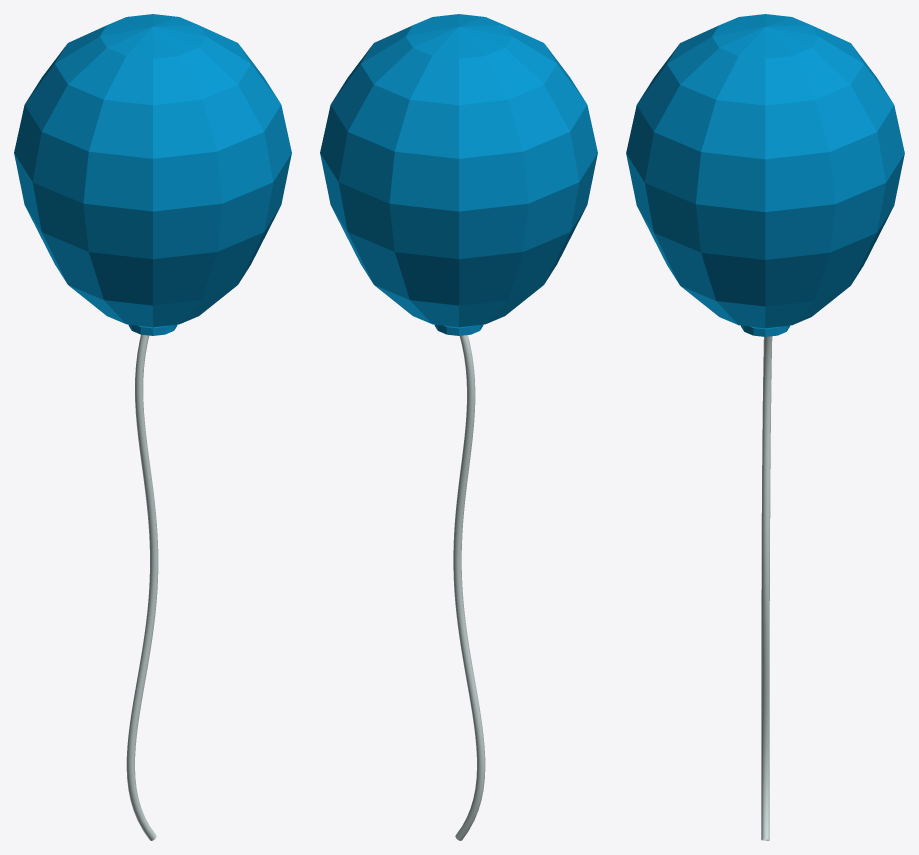
Rendered from globo.fbx.
3 renders of one model, left to right at view 1: azimuth 30°, elevation 25°; view 2: azimuth 150°, elevation 25°; view 3: azimuth 270°, elevation 25°, orthographic.
Parts seen in each view (by area): view 1: NurbsPath; view 2: NurbsPath; view 3: NurbsPath.
Part boxes in pixels (box(x1,y1,x2,y2)): NurbsPath: box(14, 14, 291, 840); NurbsPath: box(320, 14, 597, 840); NurbsPath: box(626, 14, 904, 840).
Size of the model in its own units: 139 by 450 by 139.
